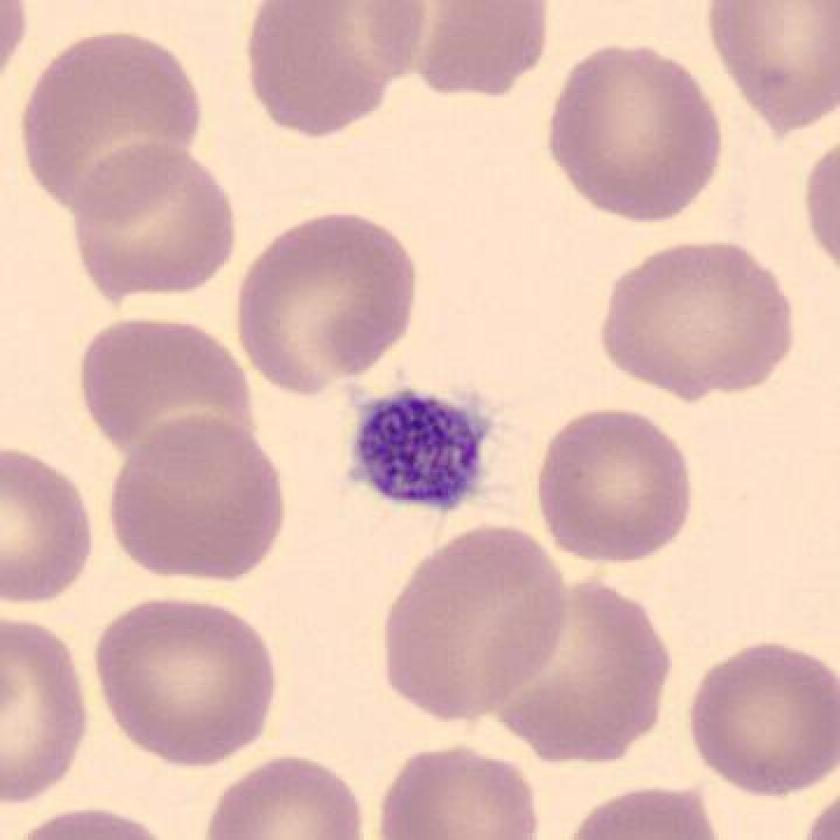platelets: (333, 369, 501, 526)
